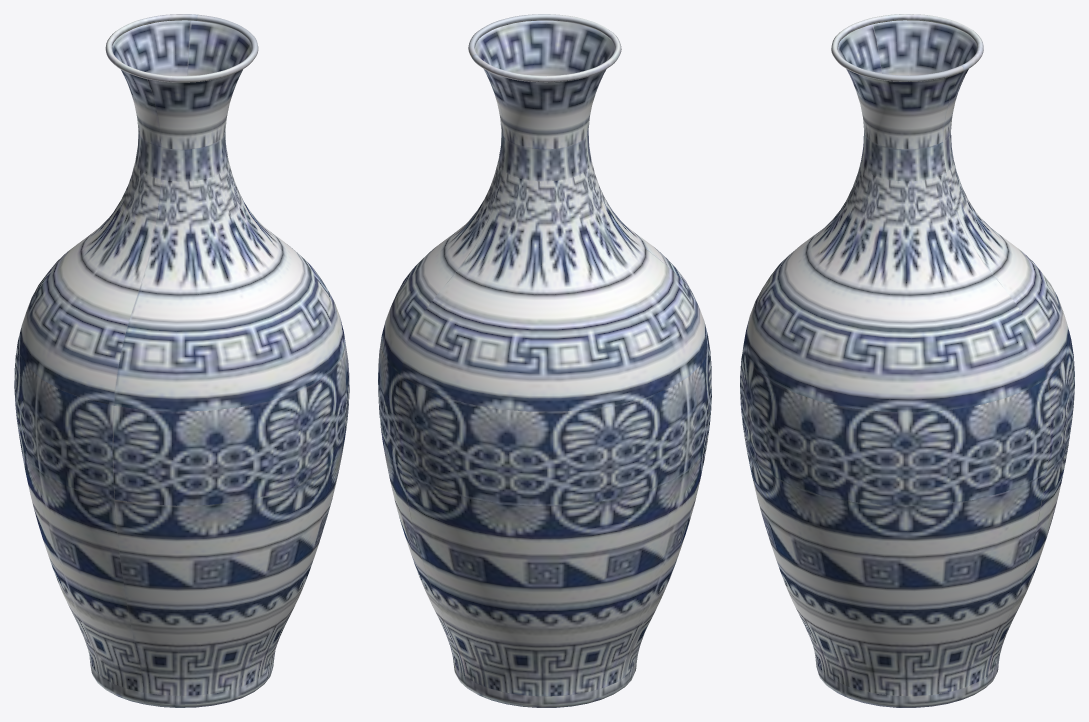
The model's file is vase.glb.
3 views of the same model, side by side, from view 1: azimuth 30°, elevation 25°; view 2: azimuth 150°, elevation 25°; view 3: azimuth 270°, elevation 25° (orthographic).
Visible parts, largest first — view 1: vase; view 2: vase; view 3: vase.
Boxes of the visible parts, left/top/right/bottom form: vase: left=14, top=14, right=349, bottom=707; vase: left=378, top=14, right=711, bottom=707; vase: left=740, top=14, right=1074, bottom=707.
Size of the model in its own units: 0.2466 by 0.5085 by 0.2461.
1 material, 1 textured.
